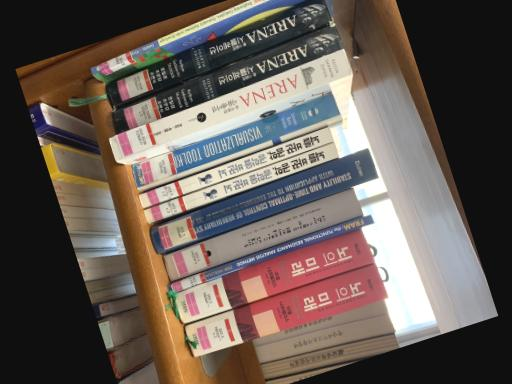book-spine: (107, 48, 351, 162), (112, 23, 343, 134), (104, 0, 331, 108), (149, 147, 378, 253), (131, 93, 340, 190), (183, 263, 387, 358), (161, 187, 363, 282), (176, 228, 374, 323), (137, 126, 332, 208), (166, 215, 373, 292), (143, 143, 338, 223), (89, 0, 267, 74)
